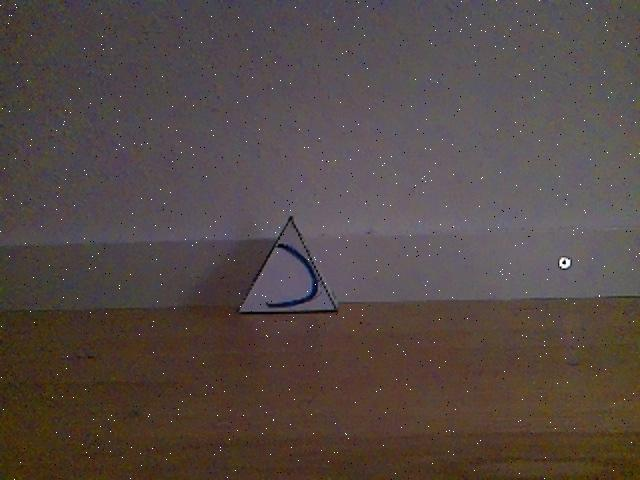C: (235, 216, 338, 313)
